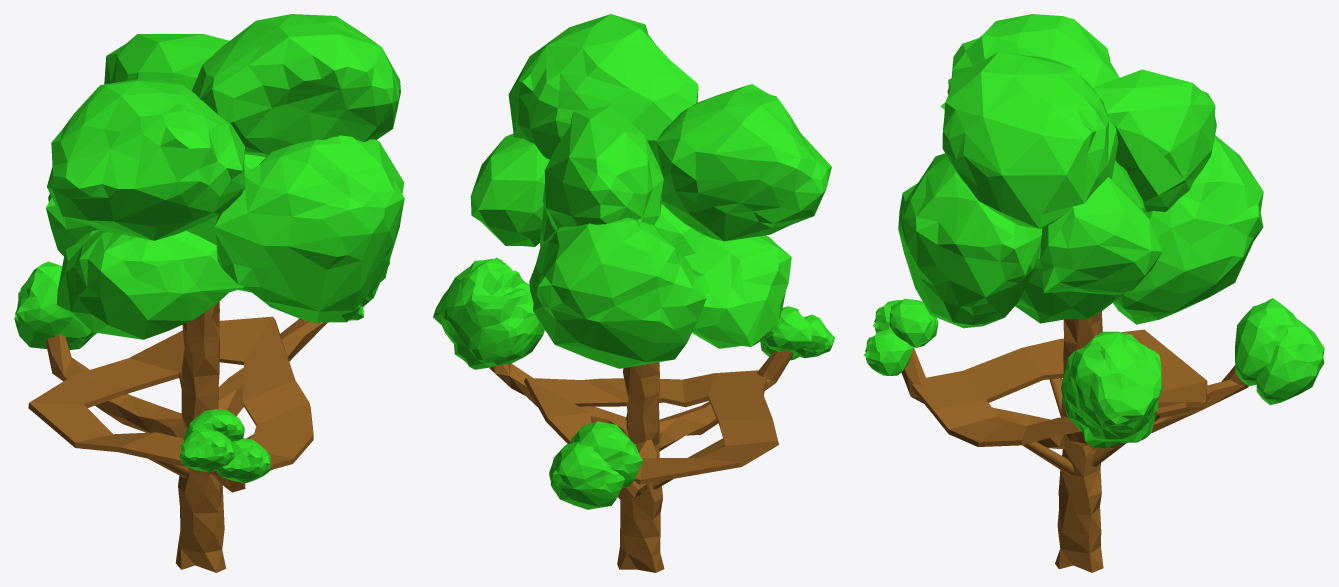
The model's file is StoneAgeTurret4.fbx.
3 views of the same model, side by side, from view 1: azimuth 30°, elevation 25°; view 2: azimuth 150°, elevation 25°; view 3: azimuth 270°, elevation 25° (orthographic). The views are drawn at different scales.
Visible parts, largest first — view 1: Tree_3, Tree_3.002; view 2: Tree_3, Tree_3.002; view 3: Tree_3, Tree_3.002.
Boxes of the visible parts, x1,y1,x2,y2 form: Tree_3: (14, 14, 404, 572); Tree_3.002: (28, 316, 313, 478); Tree_3: (433, 14, 834, 572); Tree_3.002: (524, 370, 779, 489); Tree_3: (863, 14, 1324, 572); Tree_3.002: (911, 329, 1207, 475).
Size of the model in its own units: 1464 by 2012 by 1579.
